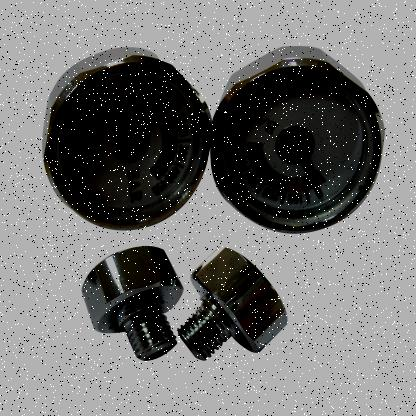needle: (123, 91, 157, 147), (297, 149, 323, 199)
